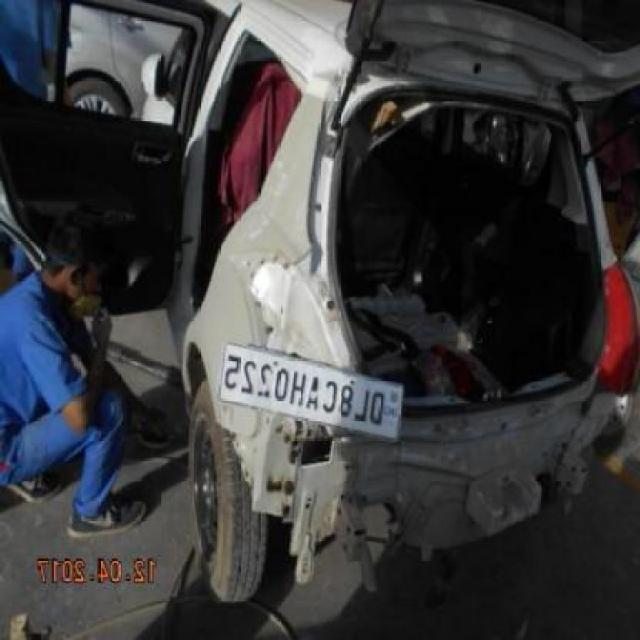damage: (213, 256, 633, 588)
